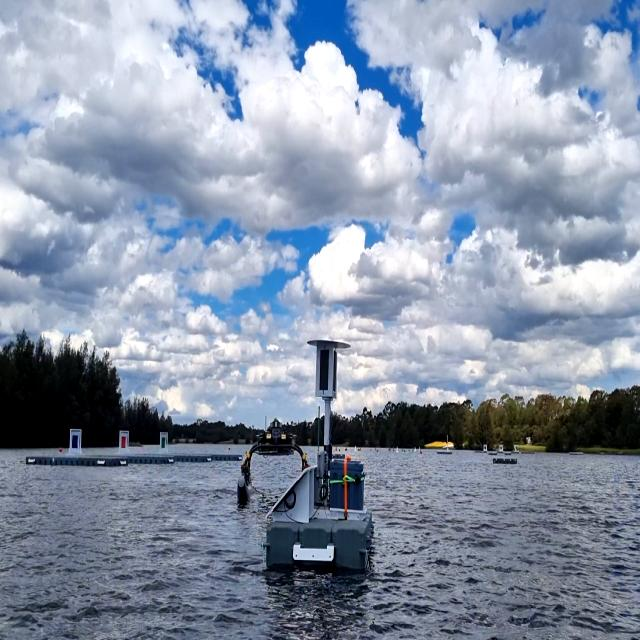led: (318, 347, 331, 396)
